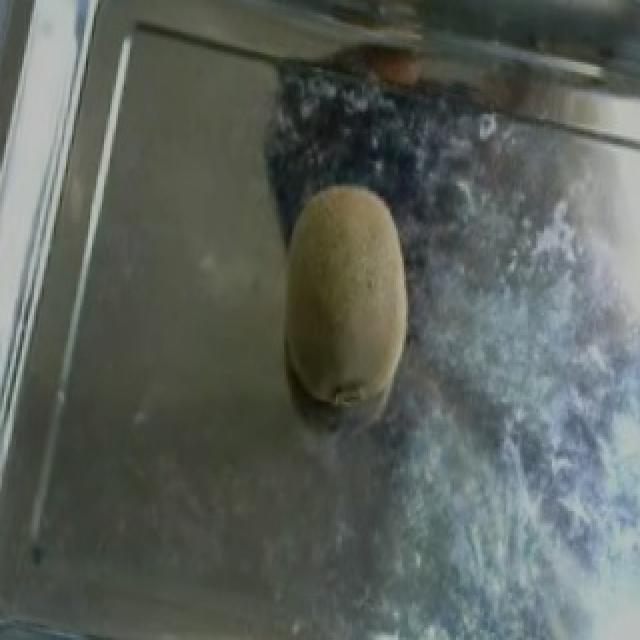Fruit: (250, 156, 448, 437)
